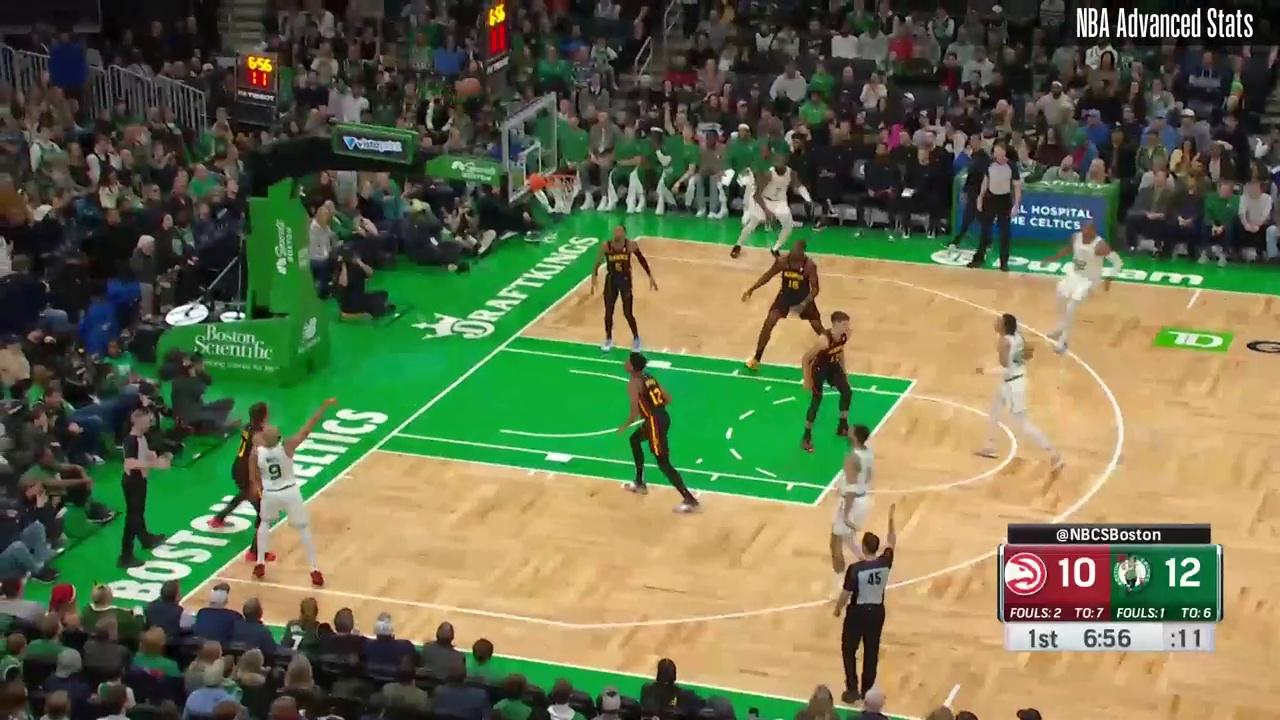3_sx: (210, 573, 217, 581)
b_dx: (637, 233, 643, 239)
free_adx: (912, 378, 918, 384)
free_asx: (811, 502, 818, 508)
free_bdx: (514, 332, 519, 338)
free_bsx: (371, 446, 377, 452)
mid_dx: (1185, 304, 1191, 310)
mid_sx: (956, 682, 962, 688)
referee: (834, 502, 897, 704), (118, 408, 173, 569), (968, 142, 1020, 271)
team: (249, 398, 332, 586), (974, 313, 1065, 475), (1042, 219, 1124, 353), (730, 150, 814, 258), (830, 424, 877, 600)
team1: (618, 351, 700, 514), (740, 239, 837, 369), (209, 400, 276, 563), (588, 224, 660, 354), (800, 311, 852, 453)
timer: (1081, 625, 1136, 651)
